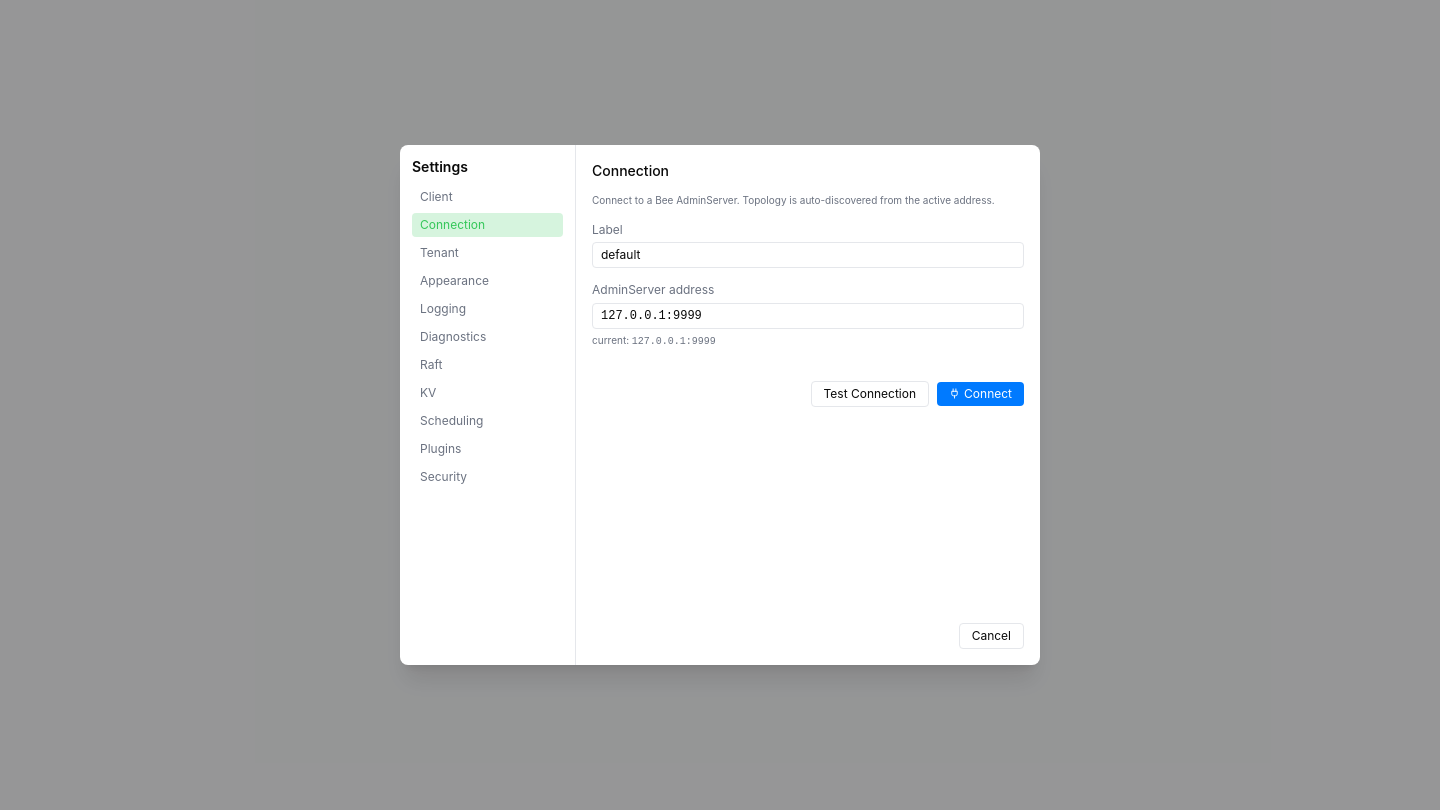
it: <SettingsModal> Plugins section › shows loaded plugins from plugin_list with enable toggle + config schema preview
Click the button "Plugins": (488, 449) [412,437,563,461]
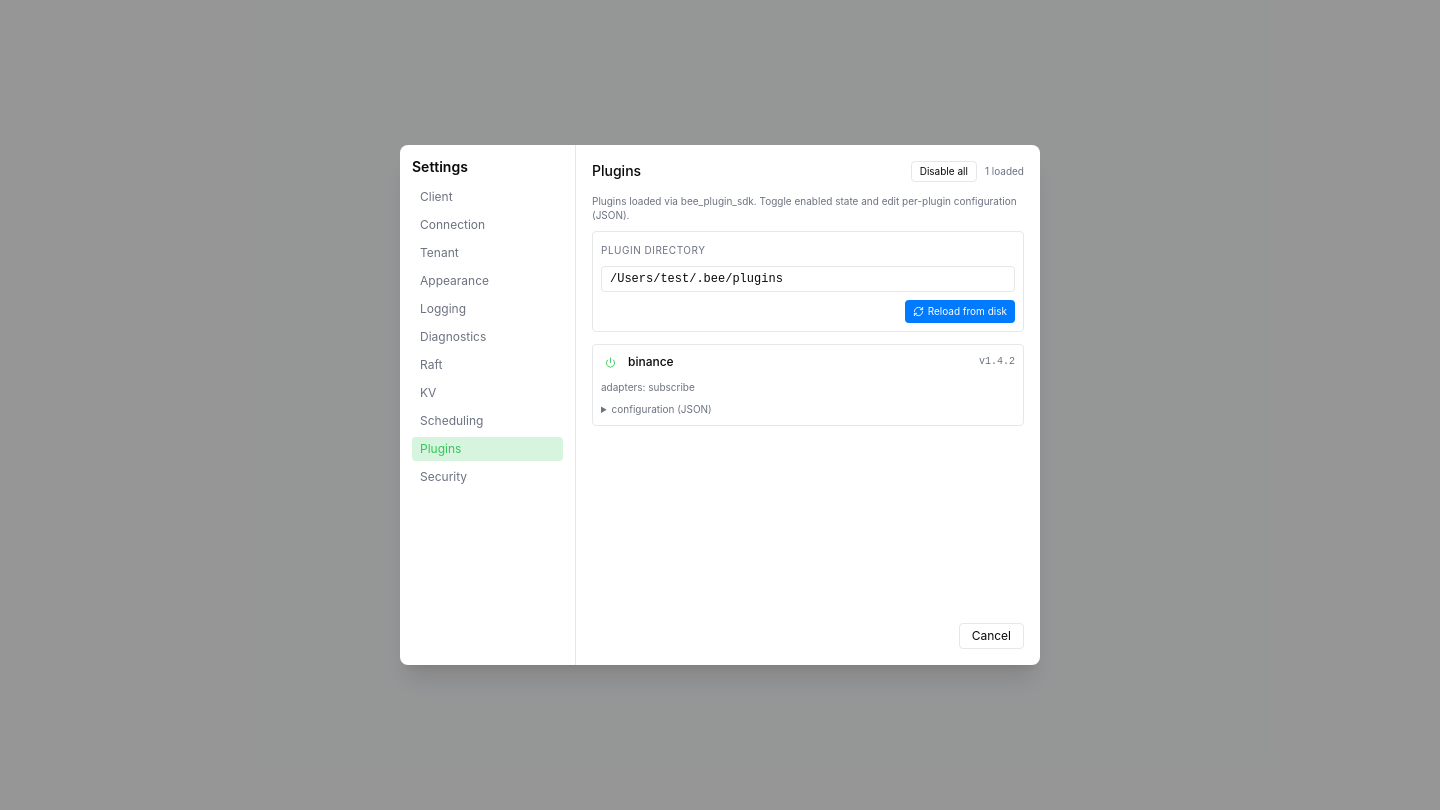
Expected: the text "1 loaded" is shown, [985,164,1024,178]
Expected: the list item with test id "plugin-row-binance" is shown, [592,344,1024,426]
Expected: the text "v1.4.2" is shown, [979,355,1015,370]
